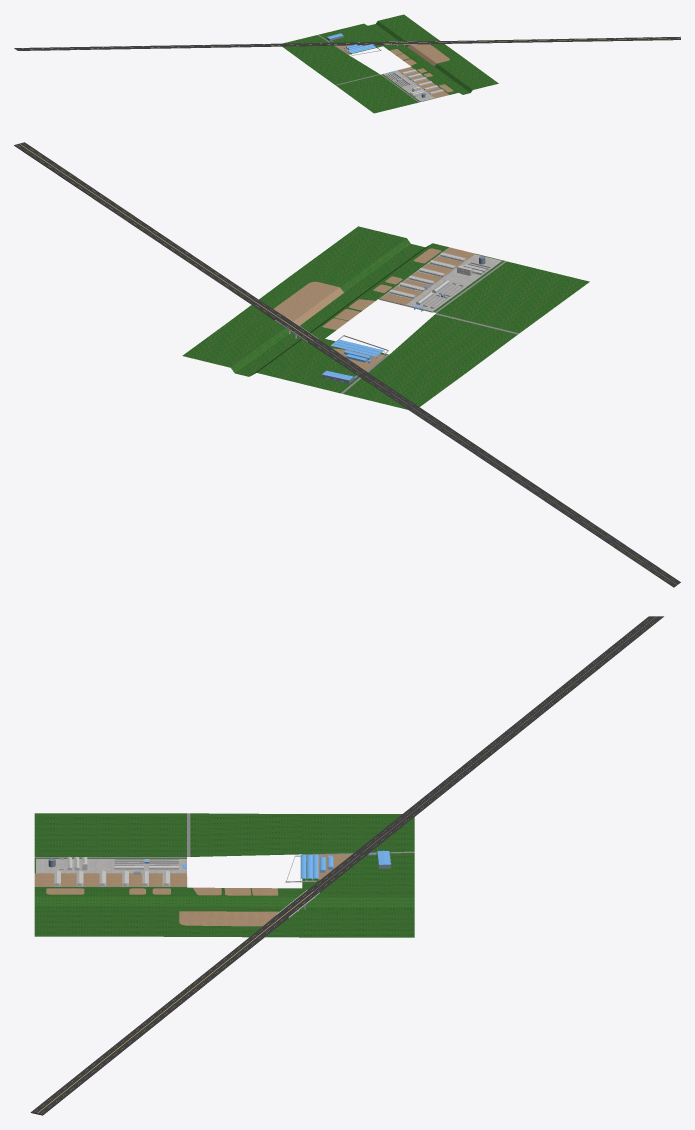
The model's file is tuo.fbx.
The picture shows the model from 3 angles, top to bottom: view 1: azimuth 30°, elevation 25°; view 2: azimuth 150°, elevation 25°; view 3: azimuth 270°, elevation 25°; orthographic projection. The views are drawn at different scales.
Visible parts, largest first — view 1: polySurface598, pCube366, polySurface592, polySurface577, polySurface554, polySurface609, pCube373, polySurface574; view 2: polySurface598, pCube366, polySurface592, polySurface554, polySurface577, polySurface609; view 3: polySurface598, pCube366, polySurface592, polySurface554, polySurface577, polySurface609.
Part boxes in pixels (box(x1,y1,x2,y2)): polySurface598: box(282, 14, 498, 113); pCube366: box(14, 36, 680, 50); polySurface592: box(336, 44, 453, 98); polySurface577: box(344, 45, 449, 100); polySurface554: box(383, 70, 444, 101); polySurface609: box(327, 33, 397, 79); pCube373: box(30, 38, 679, 49); polySurface574: box(318, 34, 419, 102); polySurface598: box(182, 226, 589, 409); pCube366: box(14, 142, 680, 587); polySurface592: box(273, 247, 475, 371); polySurface554: box(387, 254, 501, 311); polySurface577: box(331, 247, 502, 360); polySurface609: box(322, 293, 444, 380); polySurface598: box(34, 813, 414, 937); pCube366: box(30, 616, 663, 1115); polySurface592: box(34, 854, 351, 926); polySurface554: box(36, 859, 186, 886); polySurface577: box(36, 855, 323, 887); polySurface609: box(144, 850, 390, 879).
Bounding box in the file's own units: 2341 × 34.69 × 1255.
